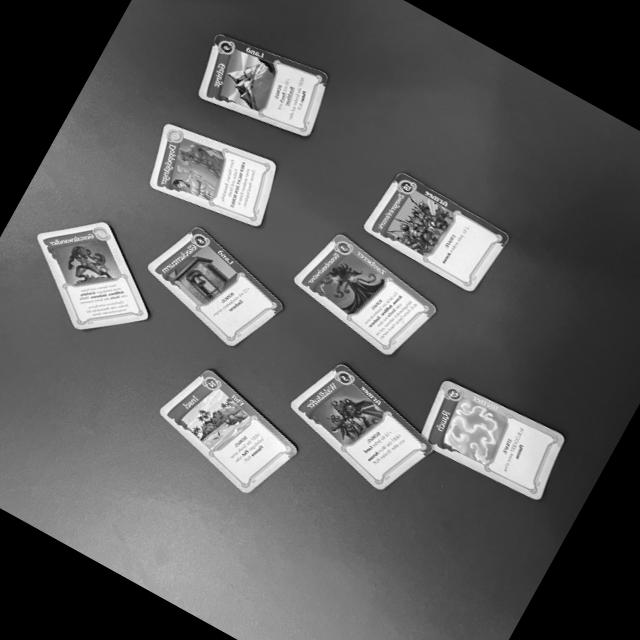Clock Tower: (145, 221, 288, 351)
Doppelganger: (148, 117, 278, 231)
Island: (154, 369, 302, 499)
Mountain: (197, 31, 328, 142)
Necromancer: (288, 230, 444, 361)
Rangers: (284, 358, 435, 494)
Shapeshifter: (33, 222, 153, 330)
Smoke: (422, 381, 564, 501)
